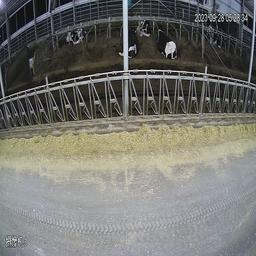cow: (157, 22, 178, 61), (127, 25, 140, 58), (65, 28, 88, 45), (207, 15, 218, 45), (137, 16, 151, 39)
